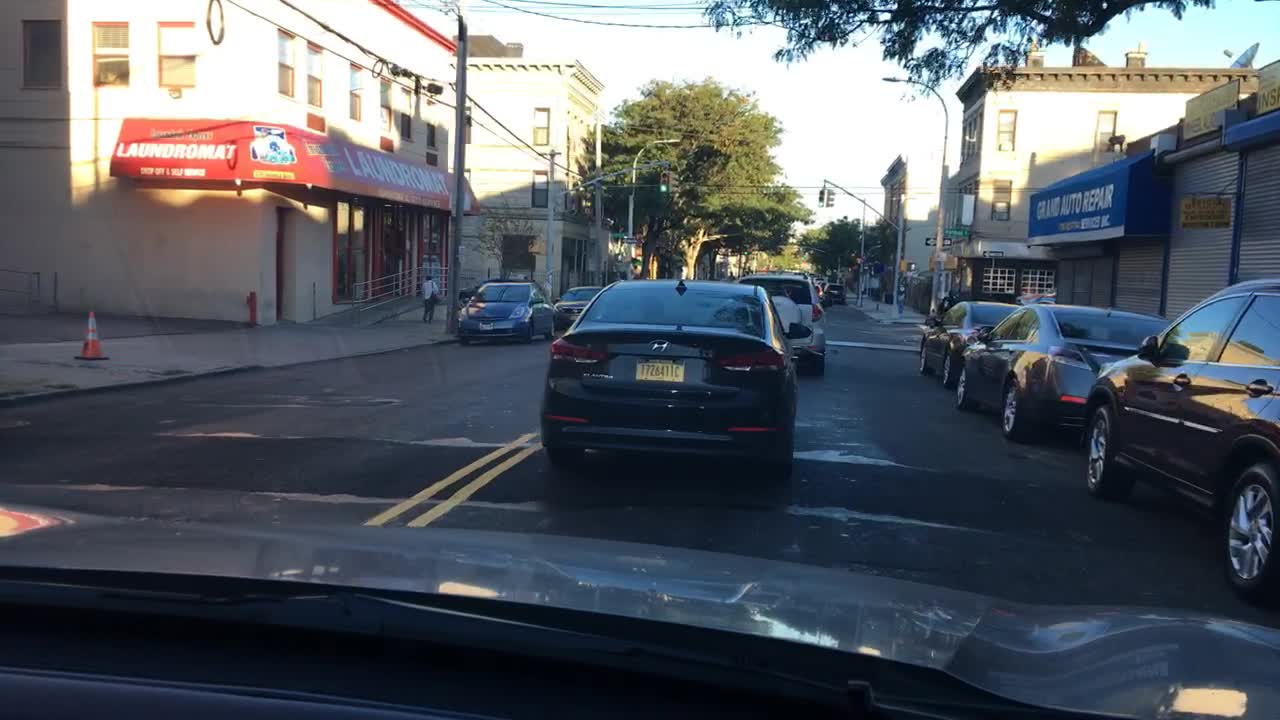car: (1075, 274, 1278, 604), (536, 273, 815, 487), (952, 301, 1173, 446), (730, 273, 828, 378), (915, 296, 1018, 393), (454, 280, 558, 346), (454, 276, 537, 313), (551, 283, 605, 331), (822, 282, 847, 305), (813, 282, 832, 307), (1024, 293, 1057, 305), (810, 274, 826, 286), (813, 279, 829, 288)
person: (419, 273, 442, 323)
traffic light: (525, 237, 546, 255), (658, 169, 670, 194), (940, 255, 958, 271), (825, 188, 837, 207), (669, 170, 679, 192), (815, 188, 826, 207), (904, 261, 918, 273), (614, 252, 624, 264)
traffic sign: (922, 236, 954, 247), (980, 247, 1006, 258), (942, 227, 968, 237), (622, 236, 638, 246), (612, 231, 624, 239)
